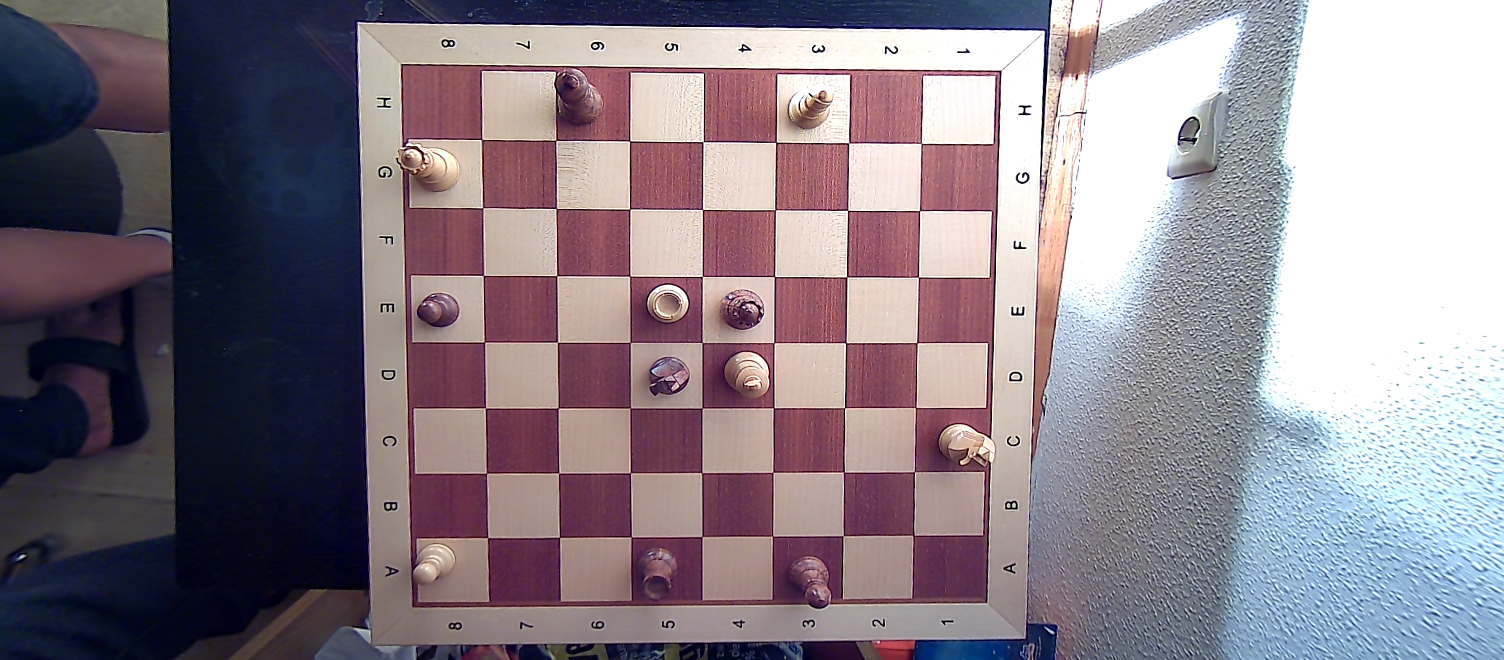black-bishop: (785, 551, 833, 613)
black-king: (549, 65, 607, 128)
black-knight: (640, 349, 695, 401)
black-pawn: (415, 289, 463, 330)
black-queen: (714, 285, 770, 336)
black-rook: (635, 545, 686, 605)
white-bishop: (786, 82, 835, 135)
white-king: (718, 349, 770, 403)
white-knight: (934, 416, 996, 469)
white-pawn: (407, 542, 457, 590)
white-queen: (396, 141, 461, 196)
white-rook: (645, 281, 693, 327)
